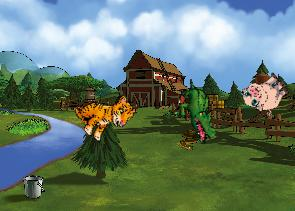crocodile: (165, 77, 230, 146)
pig: (237, 65, 293, 121)
tiger: (69, 79, 139, 148)
